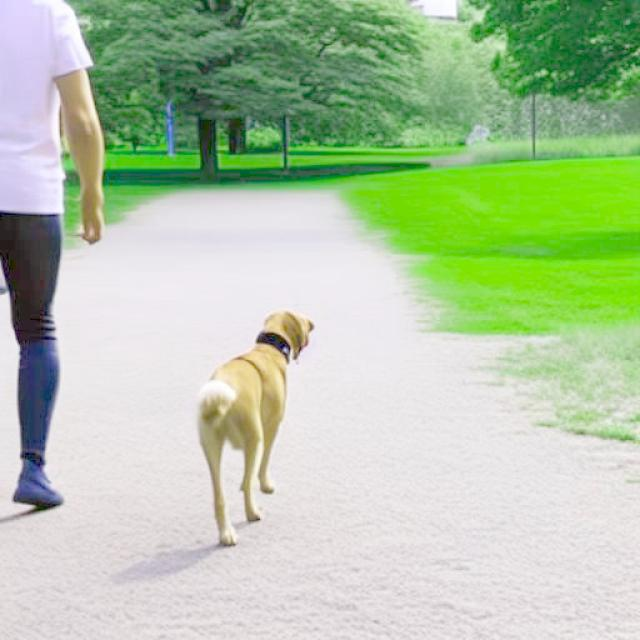Unleashed_Dog: (0, 212, 314, 546)
